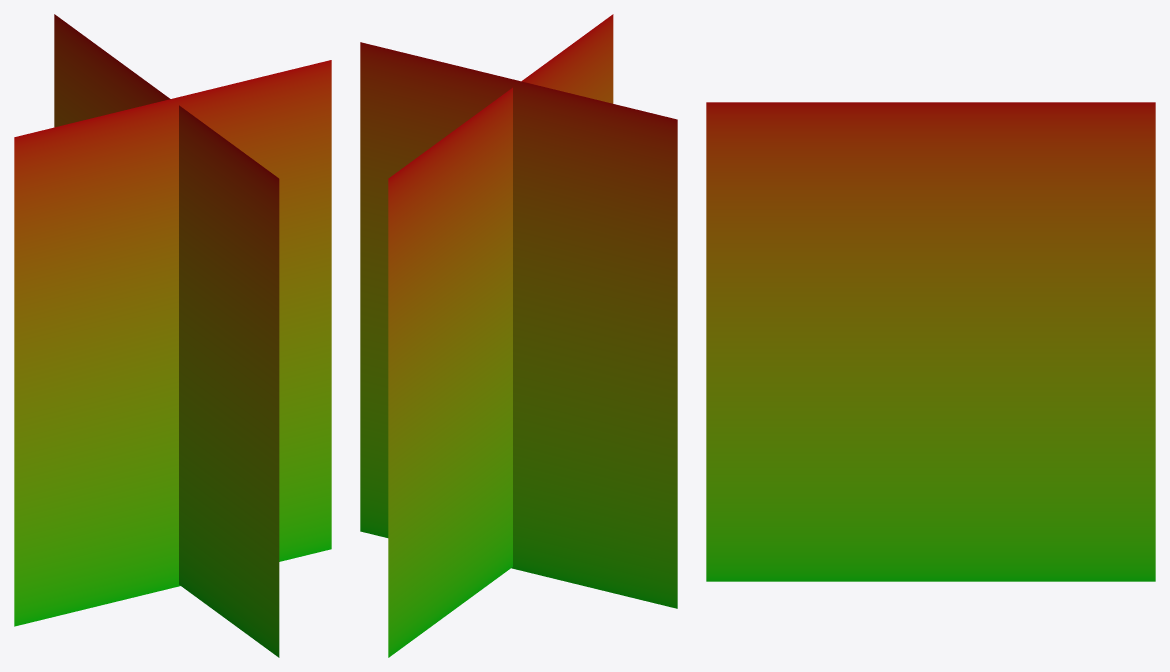
File: Var1_LOD3.fbx
3 views of the same model, side by side, from view 1: azimuth 30°, elevation 25°; view 2: azimuth 150°, elevation 25°; view 3: azimuth 270°, elevation 25° (orthographic).
Visible parts, largest first — view 1: _13ae_Var1_LOD3; view 2: _13ae_Var1_LOD3; view 3: _13ae_Var1_LOD3.
Boxes of the visible parts, x1,y1,x2,y2 form: _13ae_Var1_LOD3: [14, 14, 331, 657]; _13ae_Var1_LOD3: [360, 14, 677, 657]; _13ae_Var1_LOD3: [706, 102, 1155, 581].
Bounding box in the file's own units: 14.84 × 21.89 × 18.23.
